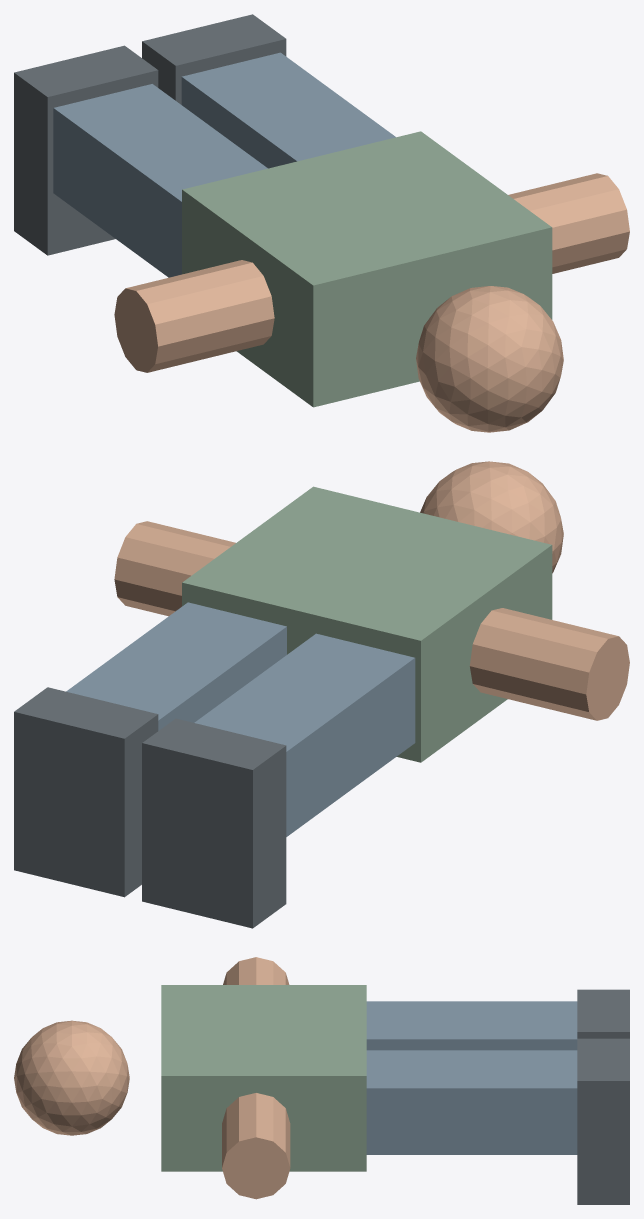
The model's file is ally_civilian.glb.
The picture shows the model from 3 angles, top to bottom: view 1: azimuth 30°, elevation 25°; view 2: azimuth 150°, elevation 25°; view 3: azimuth 270°, elevation 25°; orthographic projection. The views are drawn at different scales.
Parts seen in each view (by area): view 1: part_2, part_0, part_3, part_1, part_6, part_4, part_5, part_7; view 2: part_2, part_6, part_7, part_0, part_1, part_4, part_3, part_5; view 3: part_2, part_1, part_0, part_3, part_7, part_5, part_6, part_4.
Part boxes in pixels (<box>): part_2: <box>182,131,552,407</box>; part_0: <box>53,84,267,277</box>; part_3: <box>416,286,563,432</box>; part_1: <box>181,52,395,168</box>; part_6: <box>14,45,158,255</box>; part_4: <box>114,260,274,372</box>; part_5: <box>508,173,629,273</box>; part_7: <box>142,14,286,104</box>; part_2: <box>182,486,552,762</box>; part_6: <box>142,718,286,928</box>; part_7: <box>14,687,158,897</box>; part_0: <box>194,633,415,836</box>; part_1: <box>66,602,286,730</box>; part_4: <box>469,608,629,720</box>; part_3: <box>420,461,563,573</box>; part_5: <box>114,521,235,616</box>; part_2: <box>161,985,366,1171</box>; part_1: <box>366,1050,577,1154</box>; part_0: <box>366,1001,577,1050</box>; part_3: <box>14,1020,129,1135</box>; part_7: <box>577,1038,629,1204</box>; part_5: <box>222,1093,290,1199</box>; part_6: <box>577,989,629,1038</box>; part_4: <box>223,957,289,984</box>.
Size of the model in its own units: 1.62 by 0.56 by 2.34.
